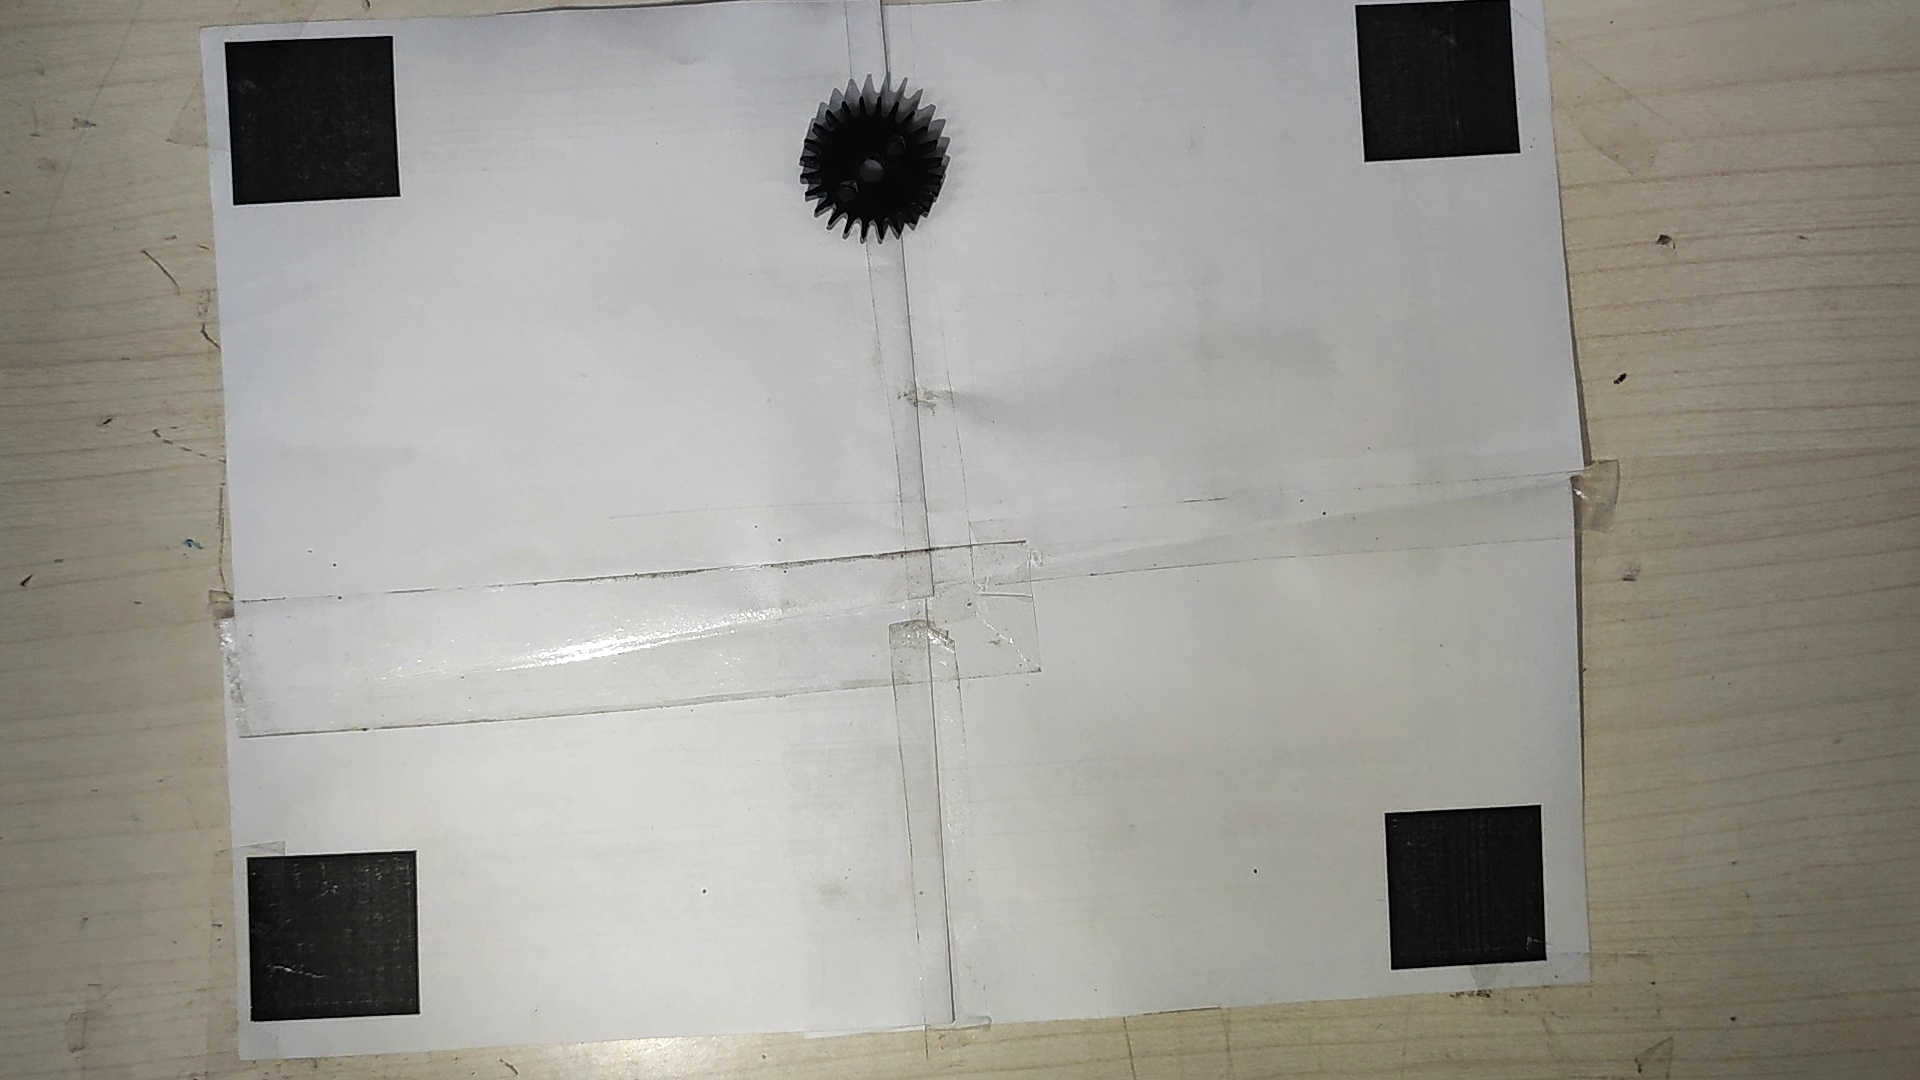Gear: (798, 79, 956, 244)
